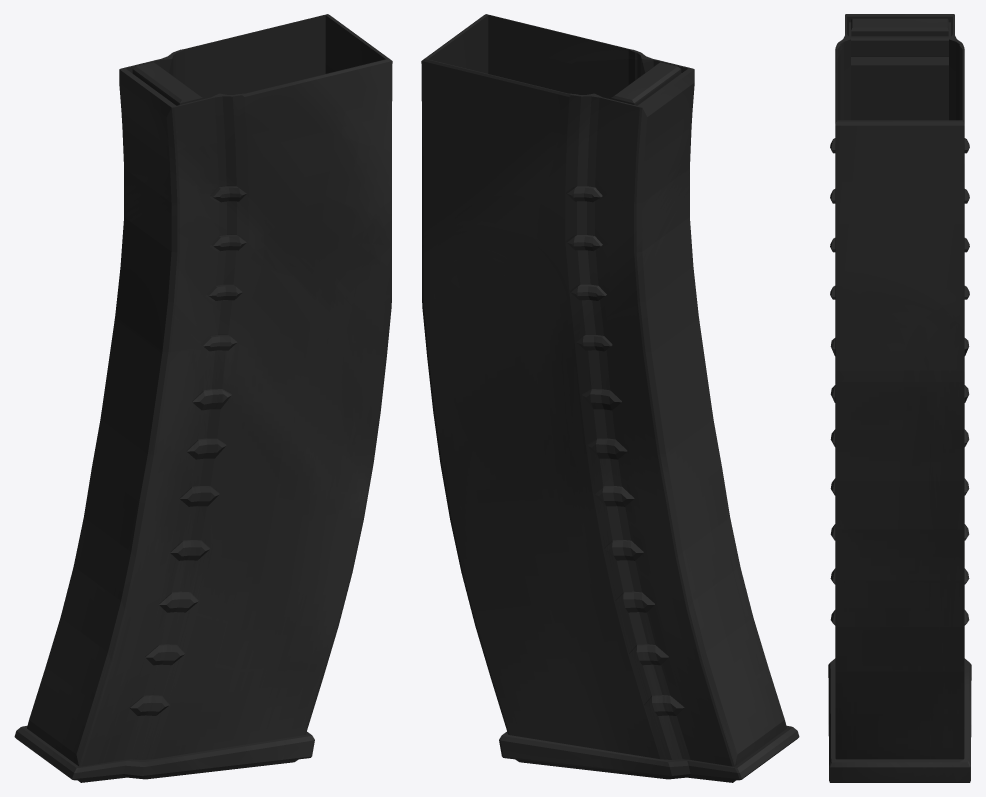
Rendered from MeduimCharge(AK).fbx.
3 views of the same model, side by side, from view 1: azimuth 30°, elevation 25°; view 2: azimuth 150°, elevation 25°; view 3: azimuth 270°, elevation 25° (orthographic). The views are drawn at different scales.
Parts seen in each view (by area): view 1: MediumCharge(AK); view 2: MediumCharge(AK); view 3: MediumCharge(AK).
Boxes of the visible parts, x1=… form: MediumCharge(AK): x1=14, y1=14, x2=392, y2=782; MediumCharge(AK): x1=421, y1=14, x2=799, y2=782; MediumCharge(AK): x1=828, y1=14, x2=971, y2=782.
Size of the model in its own units: 23.78 by 48.8 by 8.94.
1 material, 1 textured.
